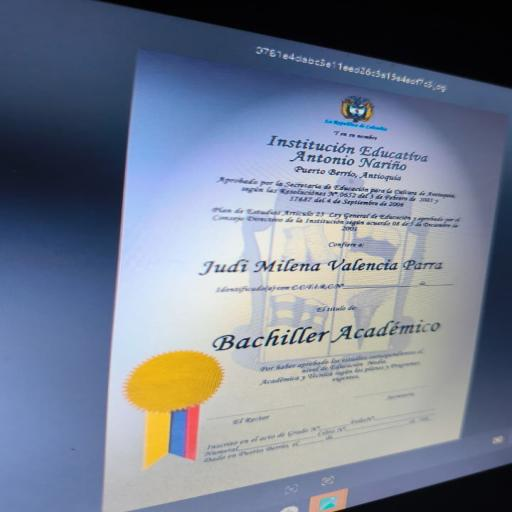bachillerato: (192, 307, 467, 357)
diploma: (92, 40, 511, 503)
institucion: (251, 128, 469, 169)
nombre: (159, 241, 469, 284)
